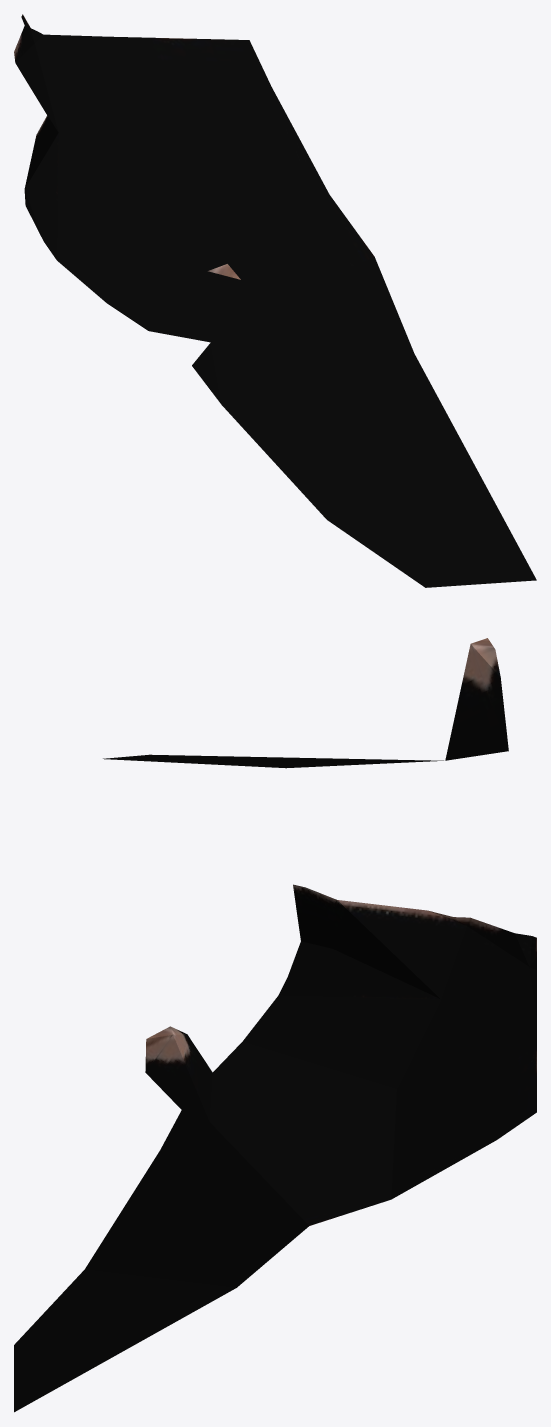
The picture shows the model from 3 angles, top to bottom: view 1: azimuth 30°, elevation 25°; view 2: azimuth 150°, elevation 25°; view 3: azimuth 270°, elevation 25°; orthographic projection. The views are drawn at different scales.
Size of the model in its own units: 2.38 by 2.64 by 3.35.
2 materials, 2 textured.
